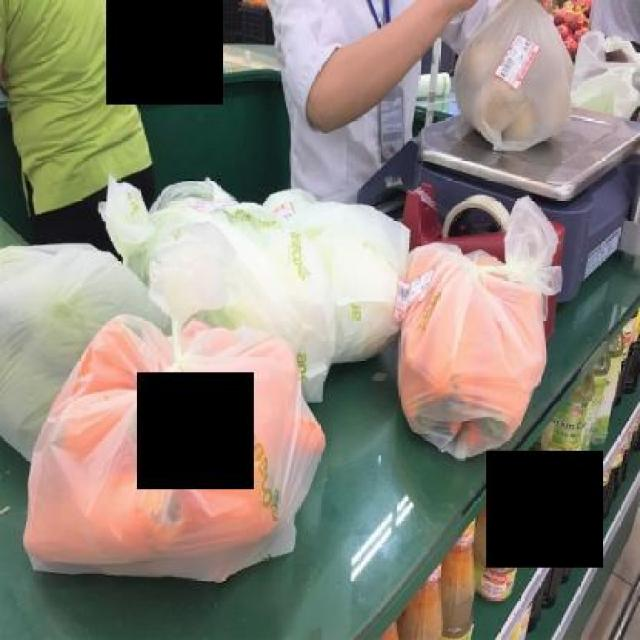plastic bag: (14, 269, 349, 574), (91, 181, 415, 414), (398, 202, 552, 462), (449, 0, 569, 158), (569, 28, 637, 118), (148, 0, 203, 66)
